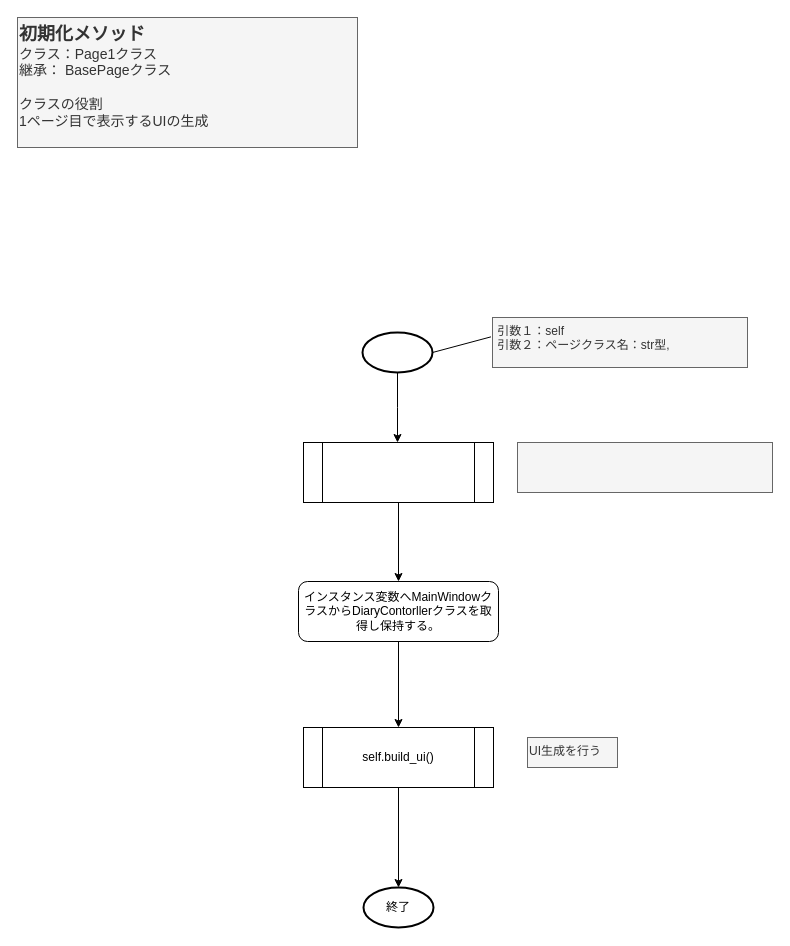
Some shapes in this 790 by 946 pixel diagram are drawn without their labels. Here are the shapes that lost their labels. From the top down, the box of each, then its label:
(361, 331, 433, 373): 開始
(302, 442, 494, 502): super().__init__()
(516, 442, 772, 492): 継承しているBasePageの__init__メソッドを呼び出す。
